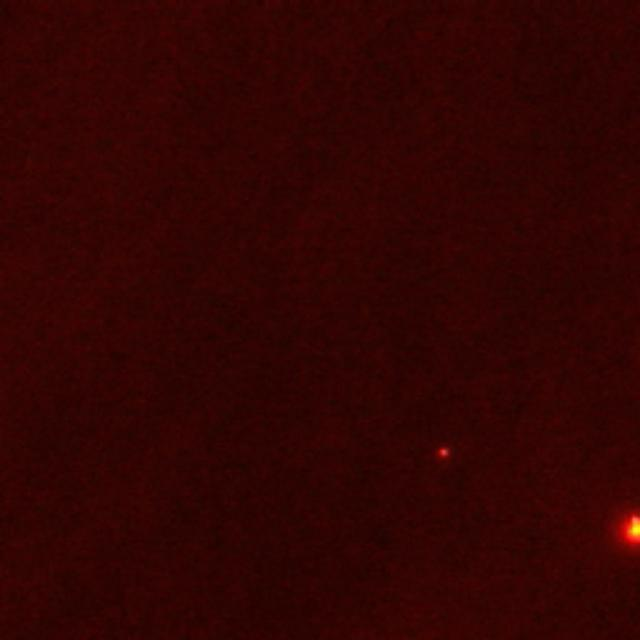Fragment: (624, 512, 640, 548)
